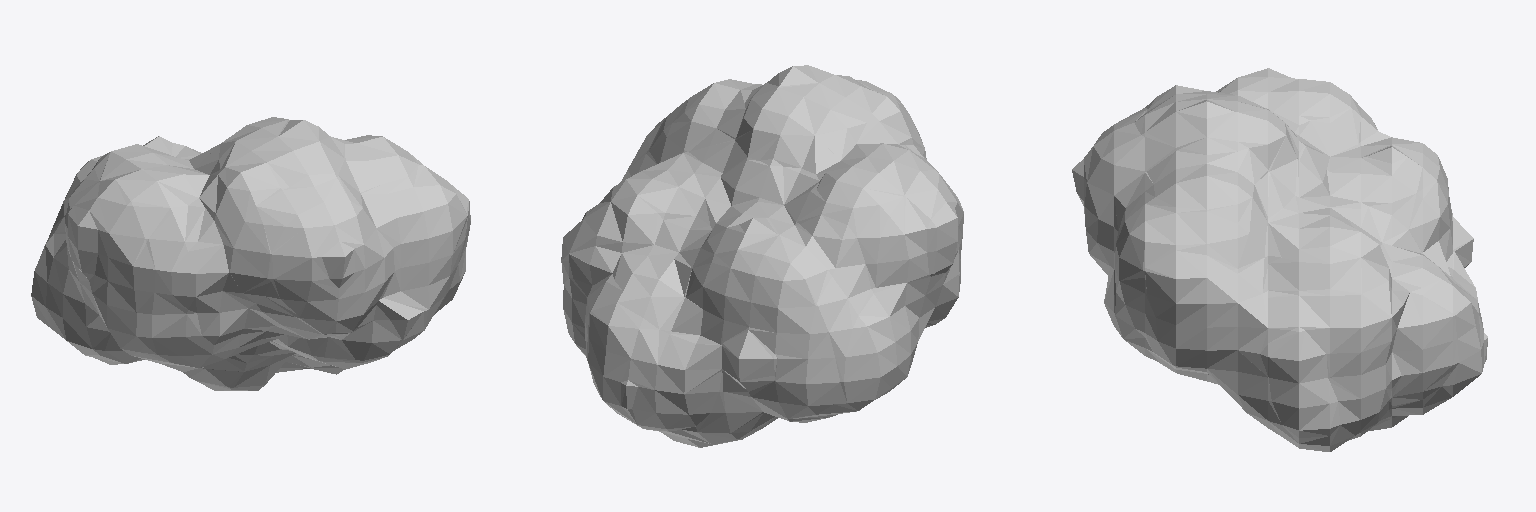
The model's file is 1ecp_cms.obj.
The picture shows the model from 3 angles: view 1: azimuth 30°, elevation 25°; view 2: azimuth 150°, elevation 25°; view 3: azimuth 270°, elevation 25°; orthographic projection.
Size of the model in its own units: 108 by 89.53 by 105.